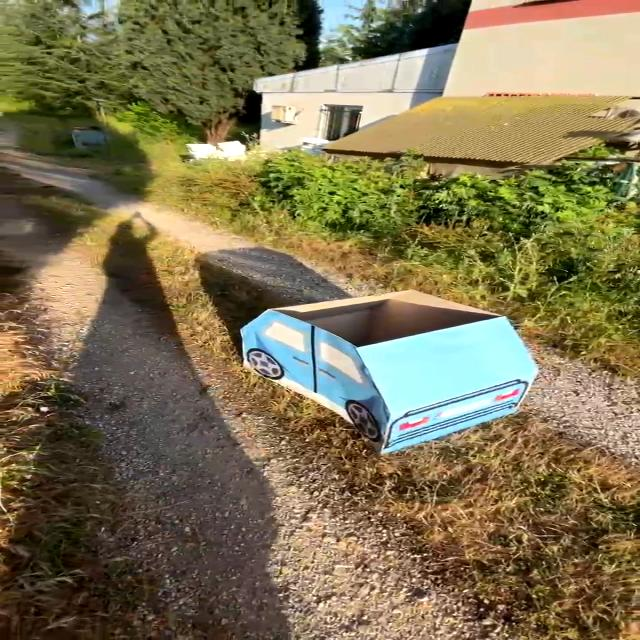blue_car: (192, 278, 577, 464)
